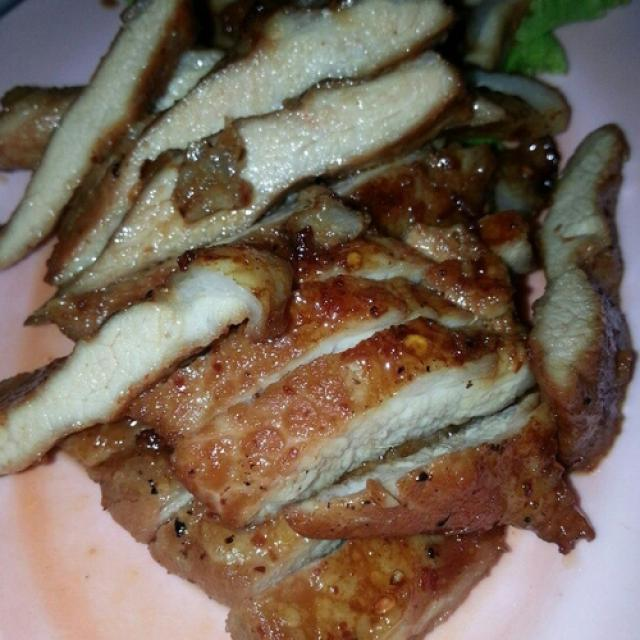猪肉菜式: (19, 23, 617, 618)
